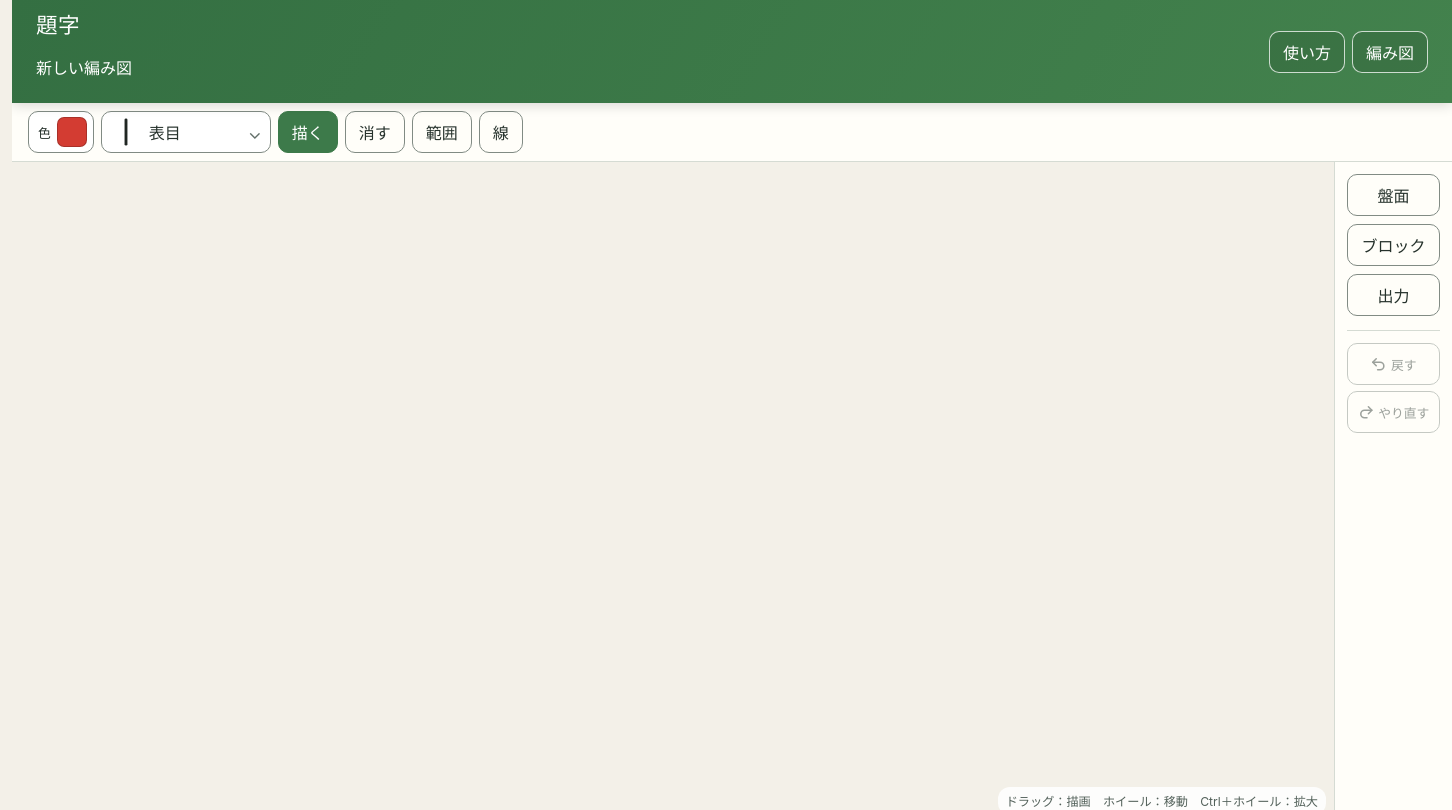
Test case: EditorView › shows both units for a rectangular block and preserves document size order
Click the button "ブロック" at (1394, 245), box [1347,224,1440,266]
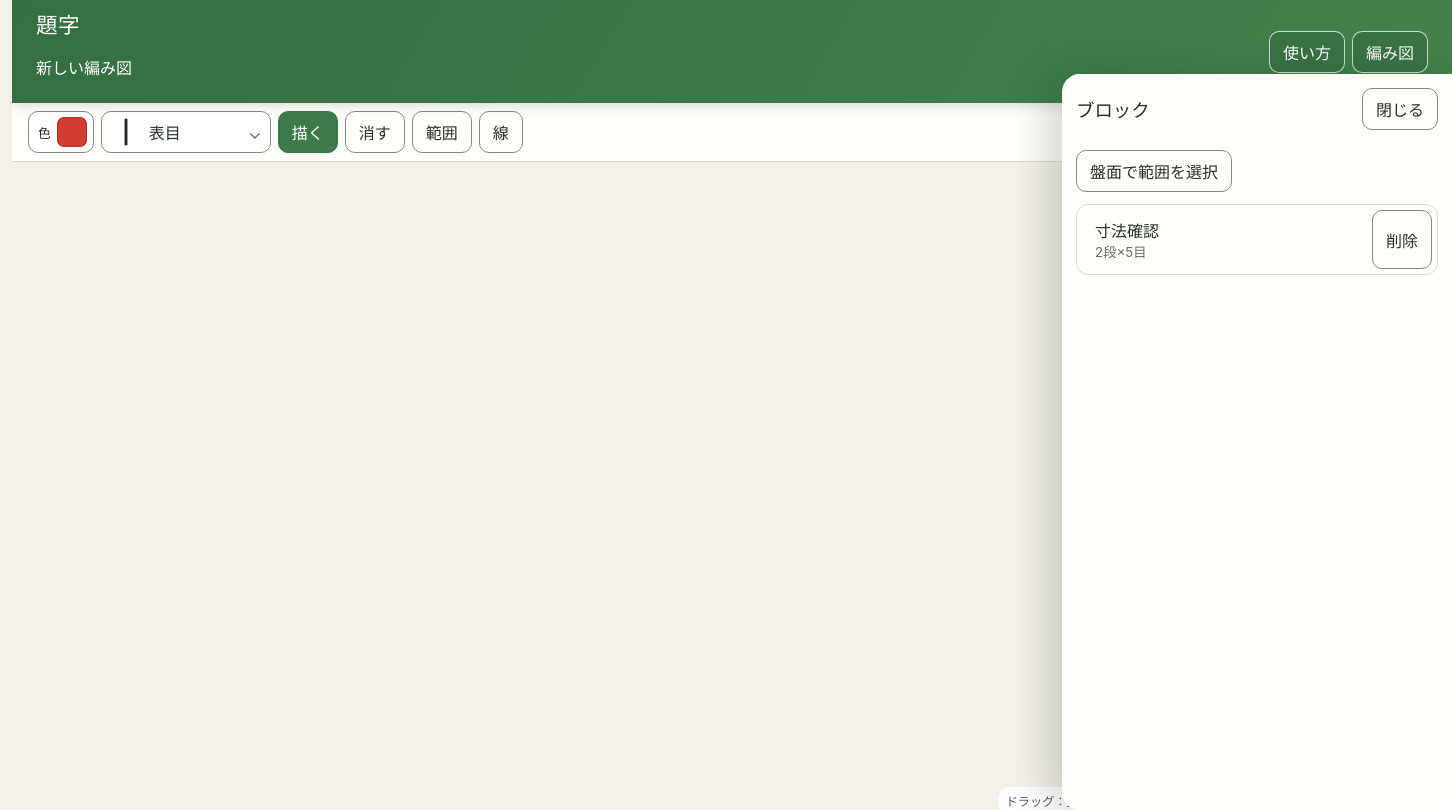
Expected: the text "2段×5目" is shown, [1095,244,1146,260]
Click the button "閉じる" at (1400, 109), box [1362,88,1438,130]
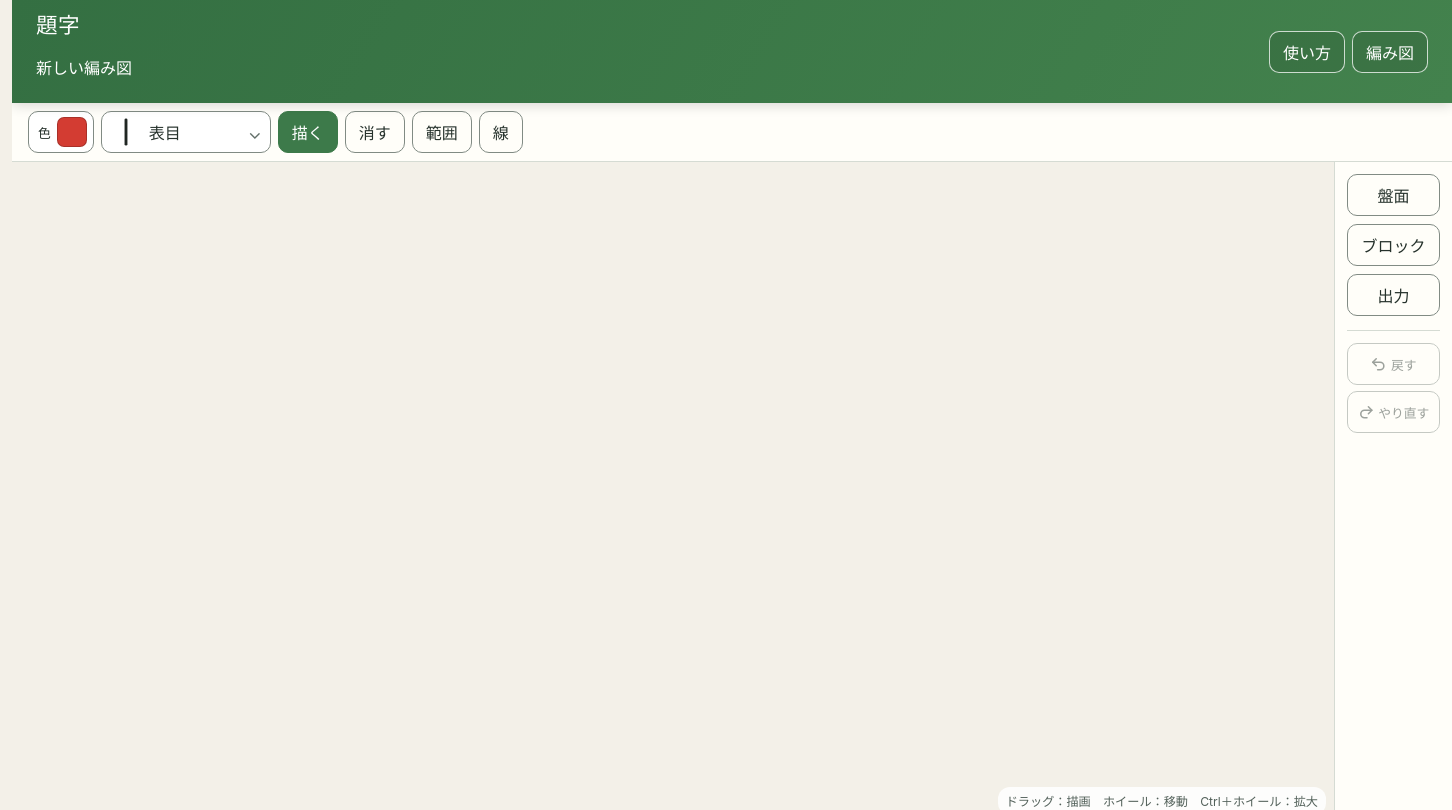
Click the button "編み図" at (1390, 52), box [1352,30,1428,72]
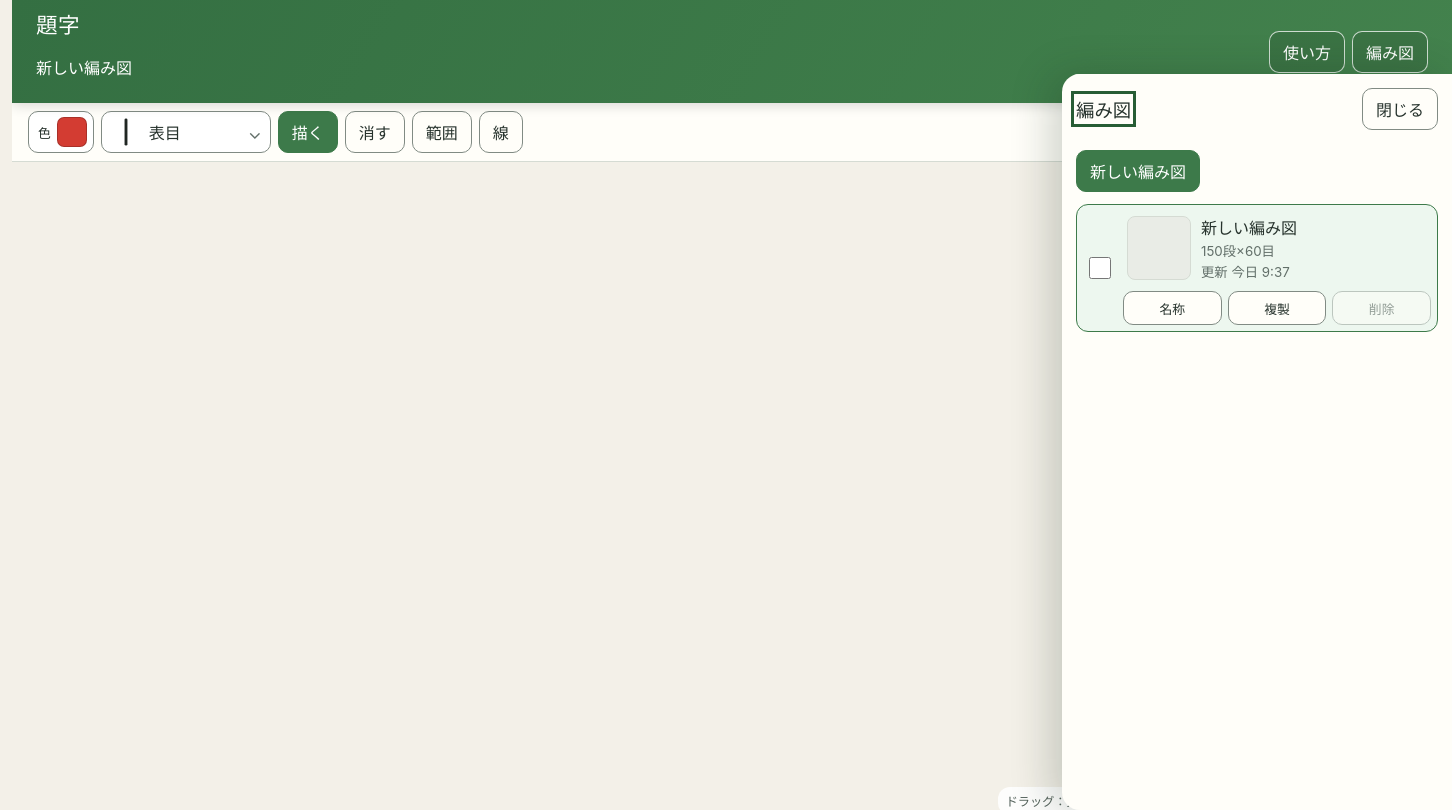
Expected: the list with class "document-list" shows "150段×60目", [1076,204,1438,332]
